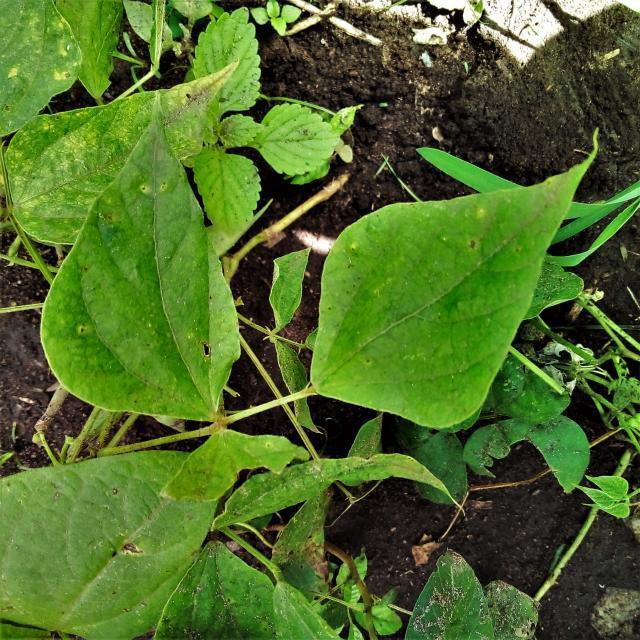hawar: (160, 547, 346, 640), (66, 70, 219, 179), (50, 502, 203, 595), (411, 562, 544, 640), (181, 329, 249, 383), (500, 173, 572, 206)
sehat: (354, 300, 485, 400)
